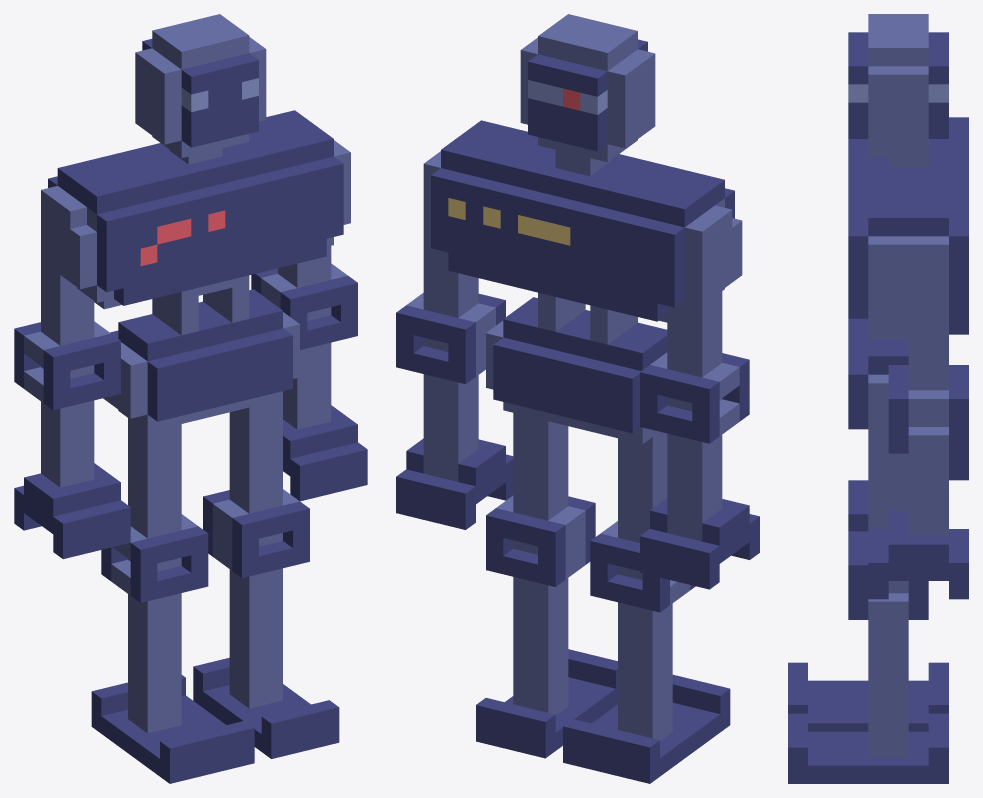
File: idle.fbx
3 renders of one model, left to right at view 1: azimuth 30°, elevation 25°; view 2: azimuth 150°, elevation 25°; view 3: azimuth 270°, elevation 25°, orthographic. The views are drawn at different scales.
Parts seen in each view (by area): view 1: Default; view 2: Default; view 3: Default.
Boxes of the visible parts, bbox=[...] form: Default: bbox=[14, 14, 367, 783]; Default: bbox=[396, 14, 759, 783]; Default: bbox=[788, 14, 968, 783].
Size of the model in its own units: 18 by 39 by 9.
1 material, 1 textured.
